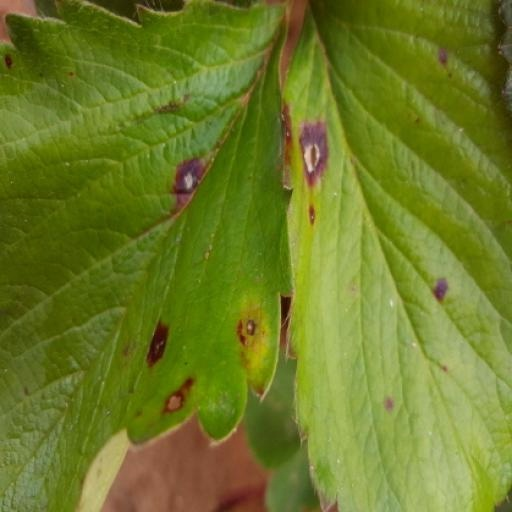Leaf Spot: (218, 0, 511, 511), (0, 0, 230, 511)
